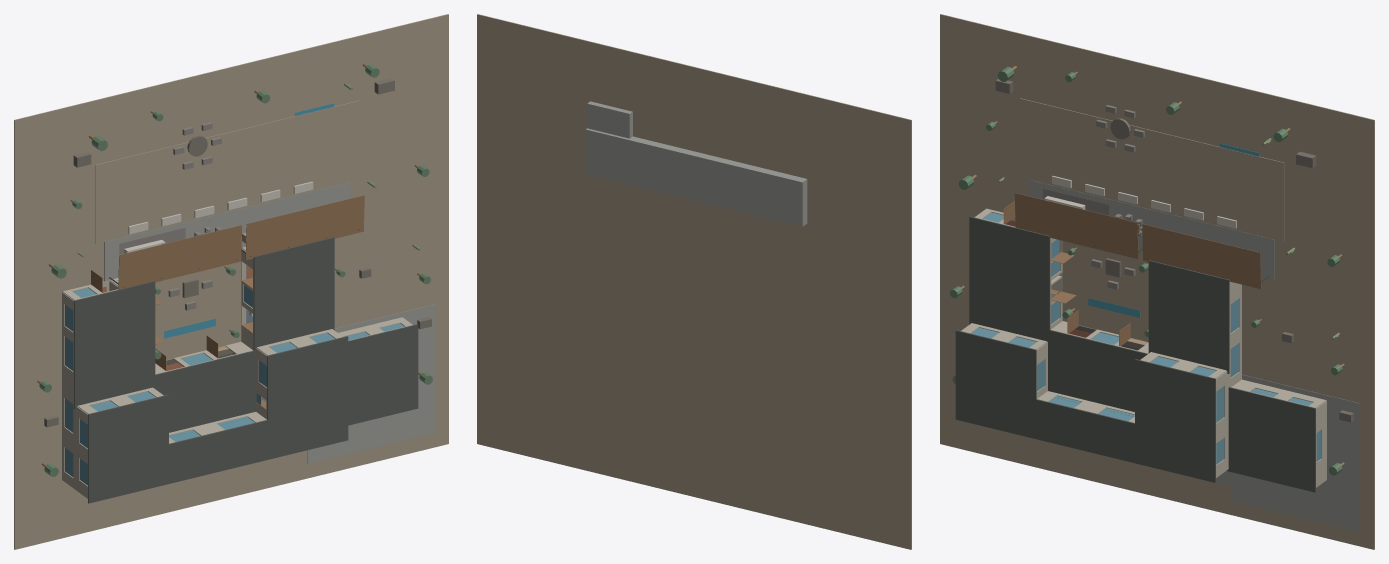
File: Sable_Meridian_House_Walkable_Model.glb
3 renders of one model, left to right at view 1: azimuth 30°, elevation 25°; view 2: azimuth 150°, elevation 25°; view 3: azimuth 330°, elevation 25°, orthographic.
Visible parts, largest first — view 1: world; view 2: world; view 3: world.
Part boxes in pixels (bbox=[...]): world: bbox=[14, 14, 448, 549]; world: bbox=[477, 14, 911, 549]; world: bbox=[940, 14, 1374, 549].
Size of the model in its own units: 56.08 by 53.04 by 7.74.
